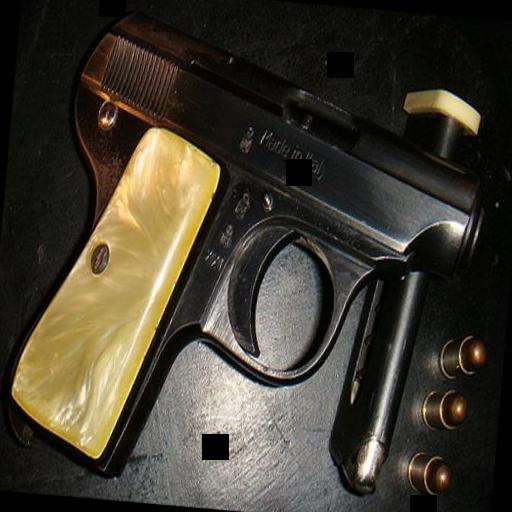Handgun: (0, 0, 497, 506)
